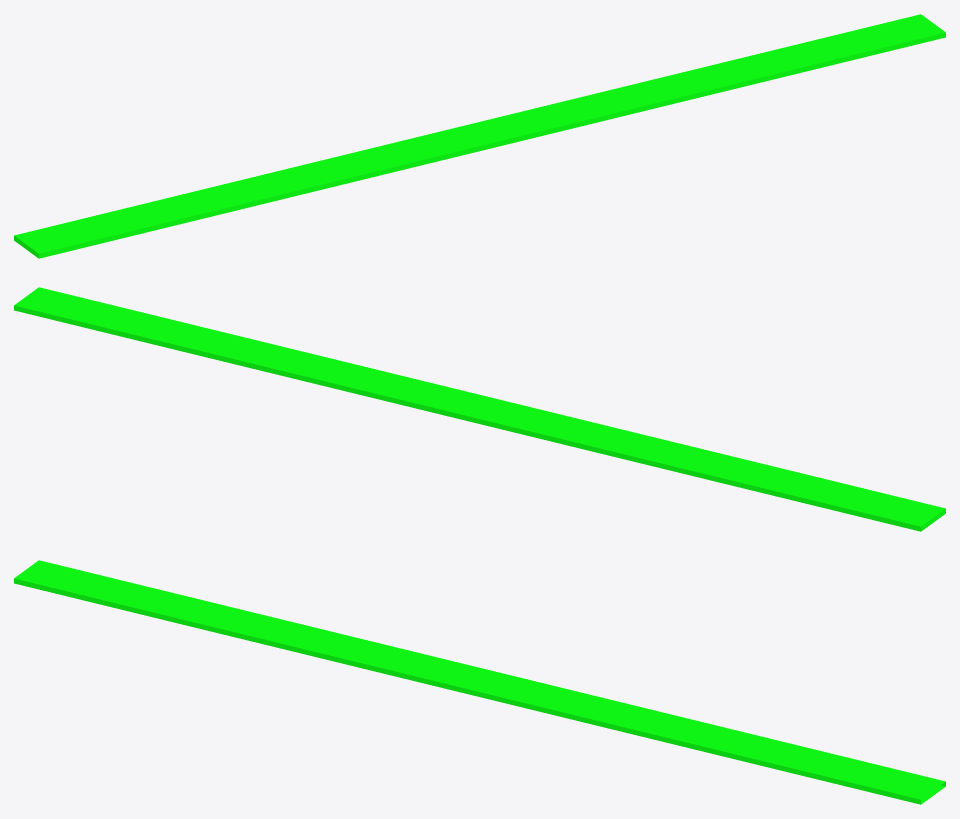
The model's file is grass.glb.
The picture shows the model from 3 angles, top to bottom: view 1: azimuth 30°, elevation 25°; view 2: azimuth 150°, elevation 25°; view 3: azimuth 330°, elevation 25°; orthographic projection.
Visible parts, largest first — view 1: Куб.001; view 2: Куб.001; view 3: Куб.001.
Part boxes in pixels (x1,y1,x2,y2): Куб.001: (14,14,945,258); Куб.001: (14,287,945,531); Куб.001: (14,560,945,804).
Size of the model in its own units: 75.6 by 0.4 by 3.6.
1 material, 1 textured.
